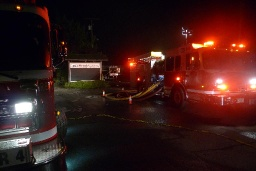truck: (126, 39, 256, 117)
